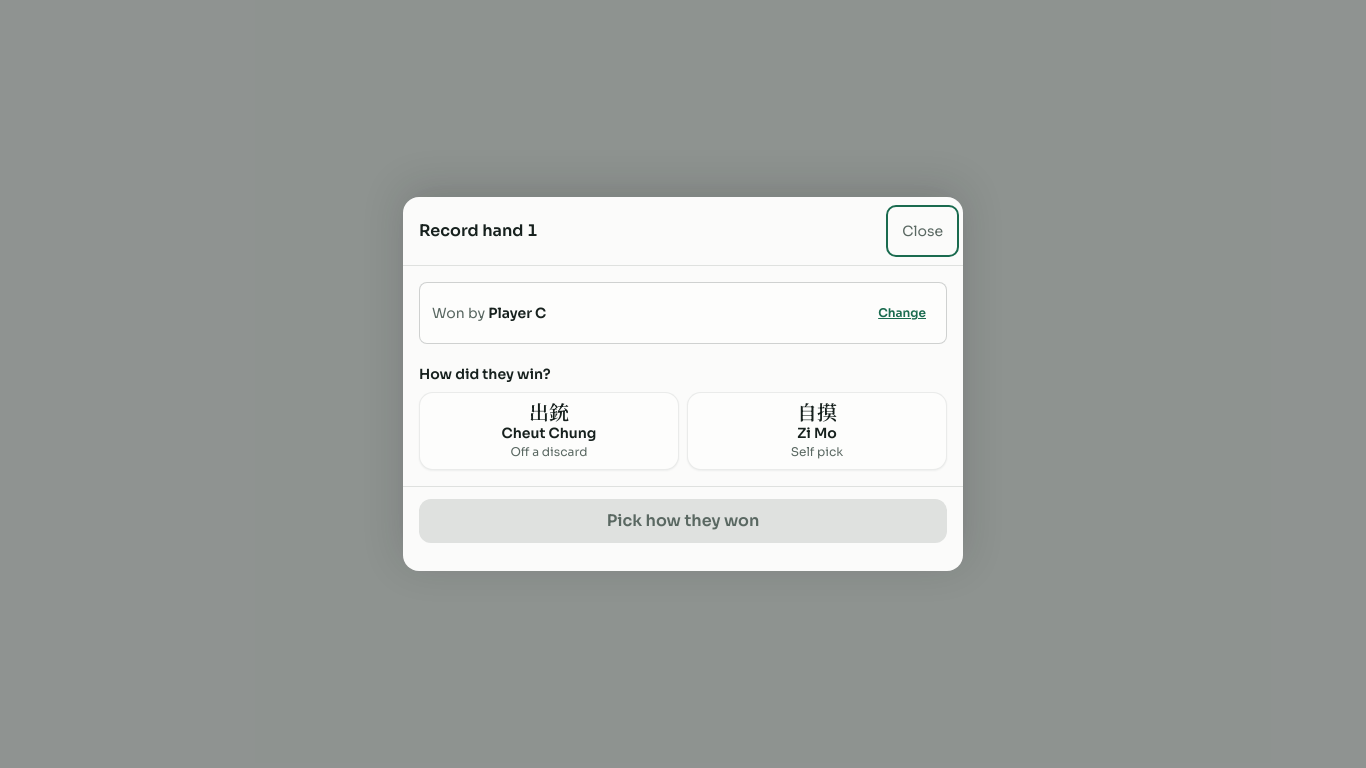
Test: when a seat was tapped on the table › lets the wrong tap be corrected without starting over
What coordinates should you click on to do the following:
click the button "Change"
I would click on:
 (902, 313)
Its box is [870,291,934,335].
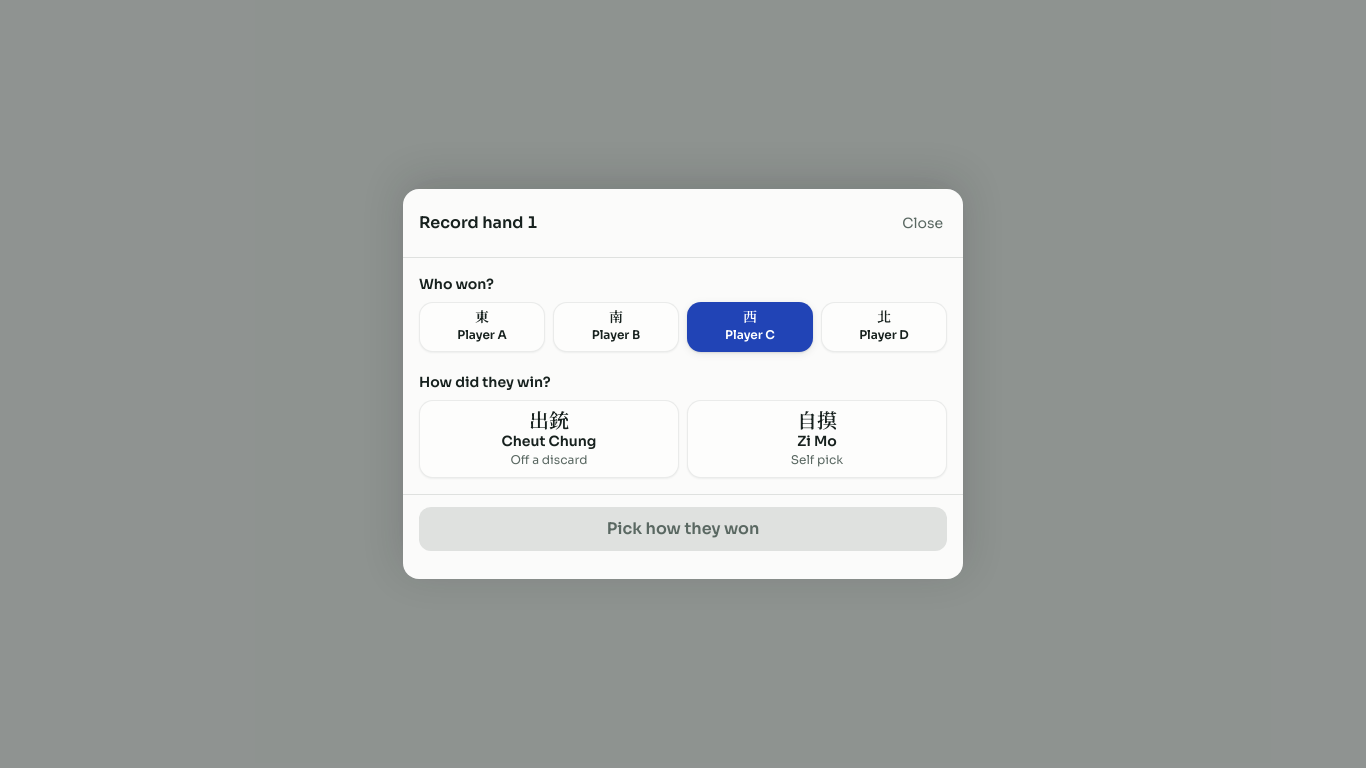
Now the heading "Who won?" is shown, box [419,274,494,294]
